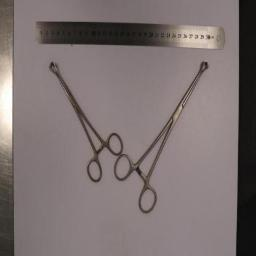Babcock Tissue Forceps: (50, 62, 122, 182)
